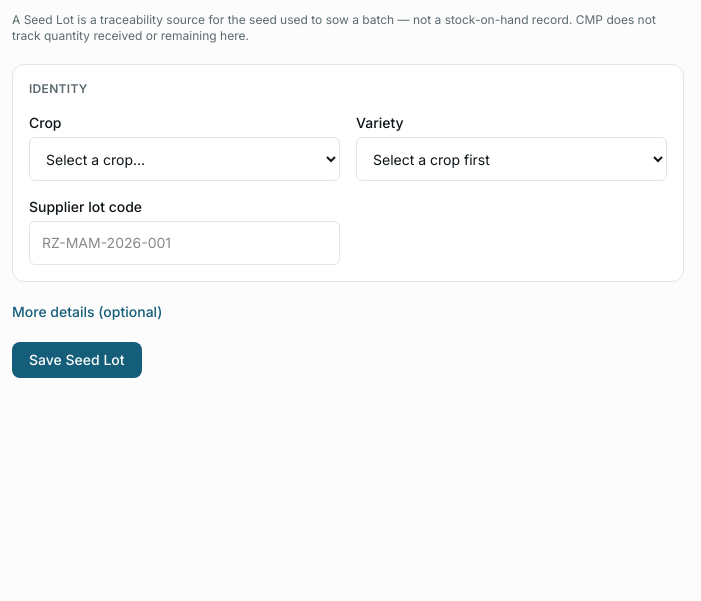
SeedLotForm › keeps optional supplier/date fields collapsed behind a 'More details' disclosure by default
Expected: the field labelled "supplier name" is not shown
Click the button "More details (optional)": (87, 312) 12,302 -> 162,322
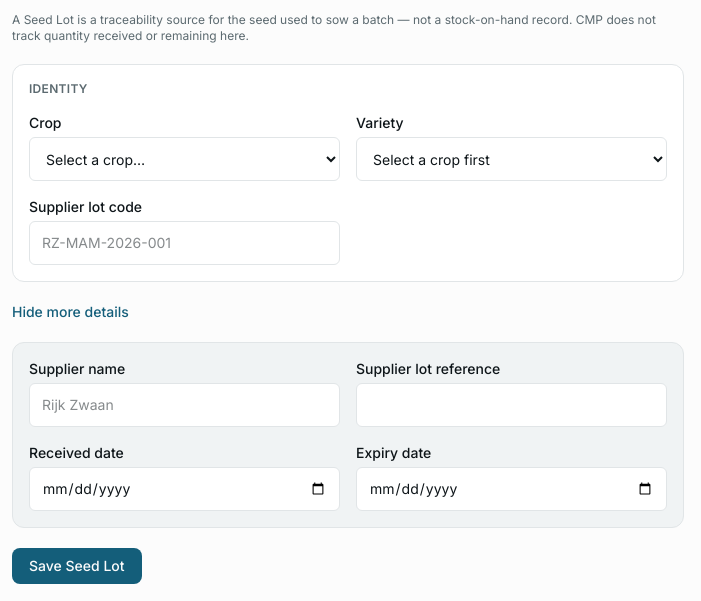
Now the field labelled "Supplier name" is shown, box 29,383 -> 340,427
Now the date field labelled "Received date" is shown, box 29,467 -> 340,511
Now the date field labelled "Expiry date" is shown, box 356,467 -> 667,511
